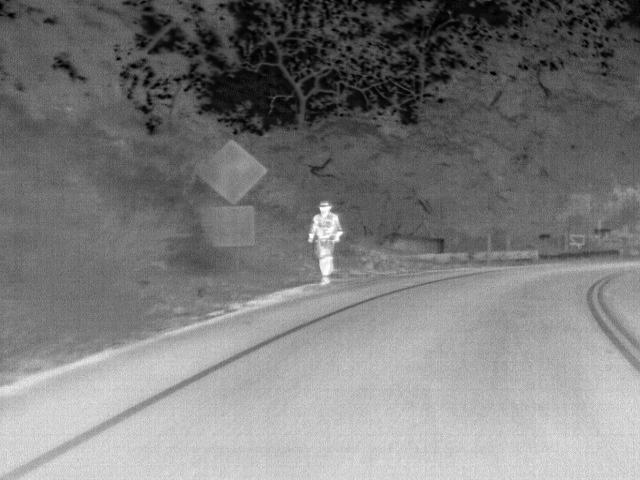person: (307, 198, 346, 287)
